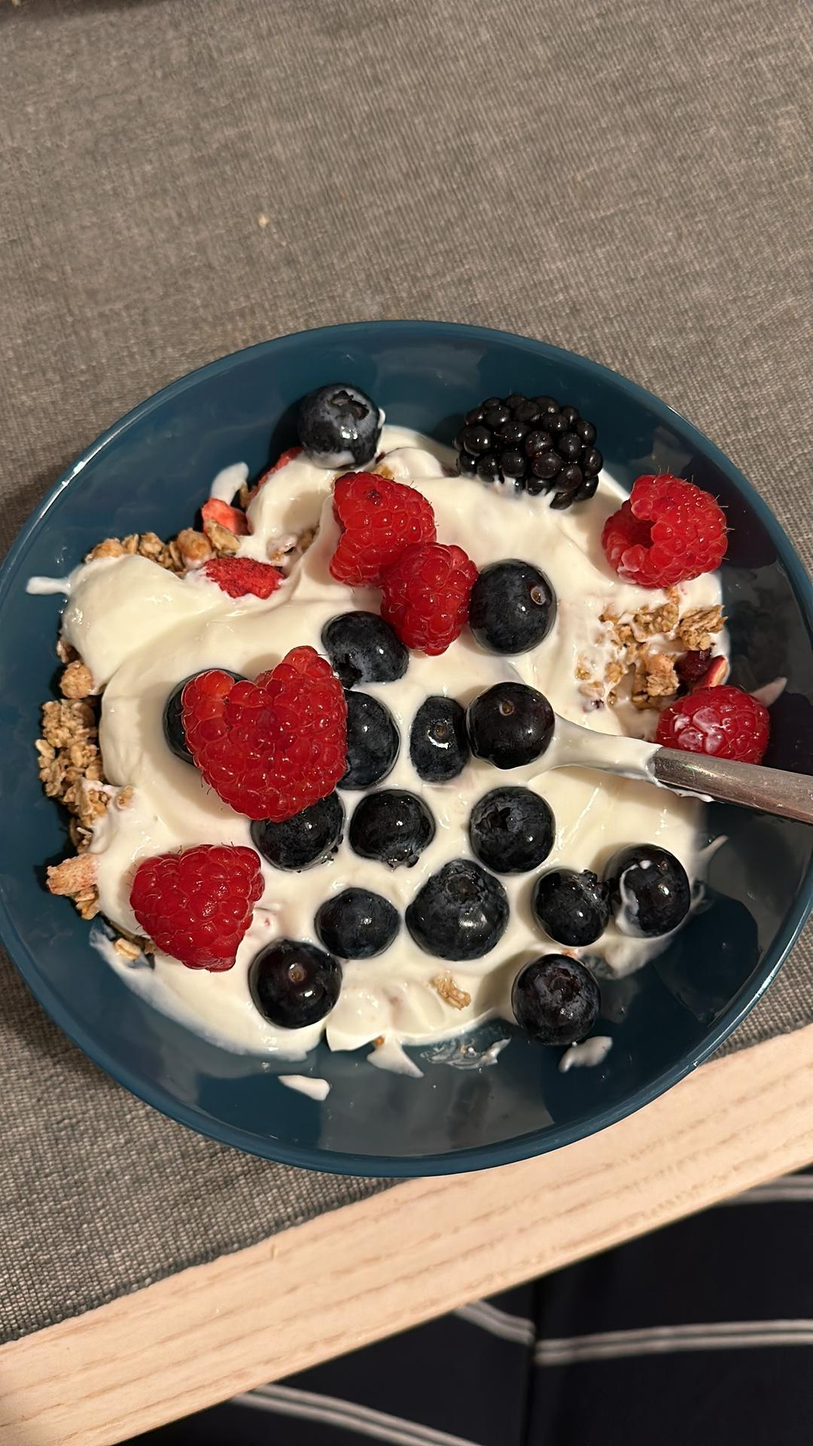blackberry: (460, 389, 605, 506)
blueberry: (406, 855, 511, 958), (245, 940, 342, 1028), (604, 840, 692, 935), (461, 784, 557, 871), (511, 952, 603, 1042), (469, 558, 556, 652), (467, 681, 560, 767), (250, 787, 340, 869), (297, 383, 382, 467), (527, 863, 613, 945), (314, 885, 404, 963), (353, 787, 432, 869), (326, 607, 408, 678), (411, 692, 472, 778), (343, 688, 393, 787)
raspberry: (178, 641, 351, 819), (132, 840, 262, 969), (598, 480, 731, 580), (324, 471, 441, 582), (384, 543, 478, 656), (669, 688, 781, 781)
